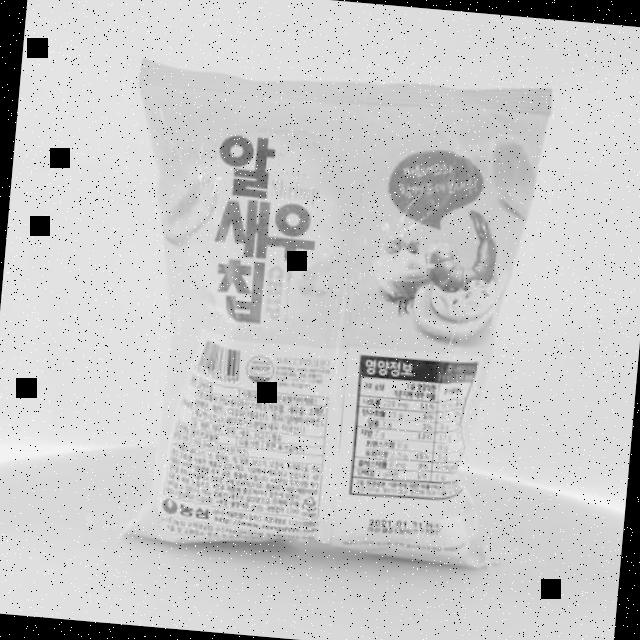snack_bag: (80, 41, 576, 588)
